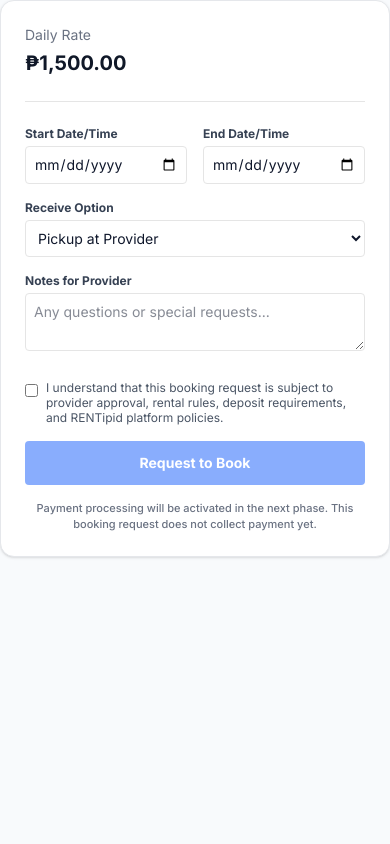
Test: GLCC-P3C — Public Marketplace & Renter Static Copy Migration › 3. Renter Booking Request Form (Client Component) › interactively updates duration and financial calculation with pluralized labels
Type "2026-10-01" into the date field below "Start Date/Time".
click(106, 165); type("2026-10-01")  # box [25, 146, 187, 184]
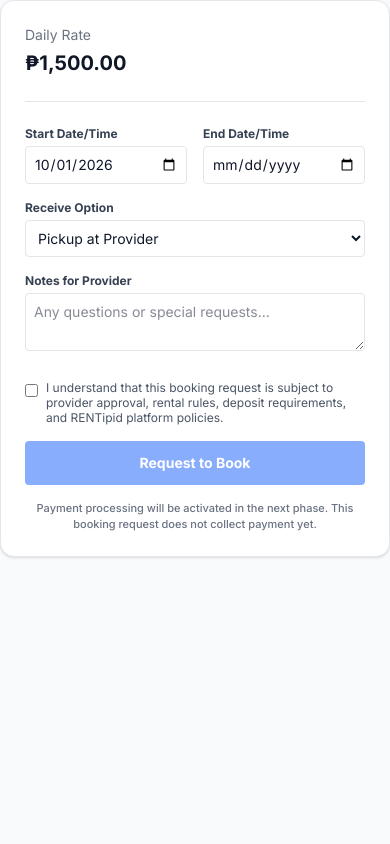
Type "2026-10-04" into the date field below "End Date/Time".
click(284, 165); type("2026-10-04")  # box [203, 146, 365, 184]
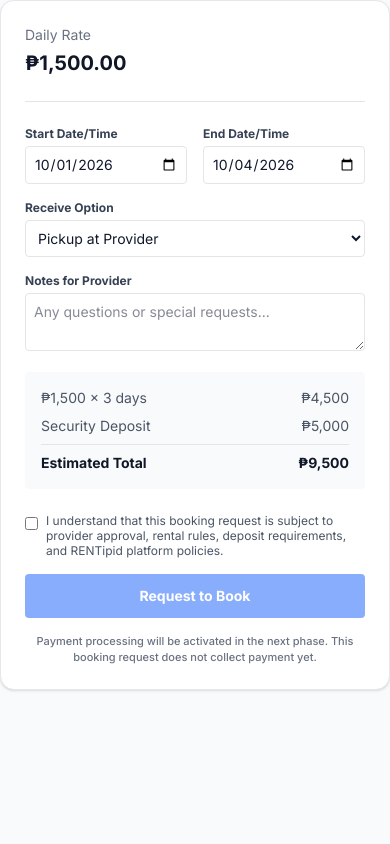
Now the text "₱1,500 x 3 days" is shown, box [41, 388, 147, 408]
Now the text "₱4,500" is shown, box [301, 388, 349, 408]
Now the text "₱5,000" is shown, box [302, 416, 349, 436]
